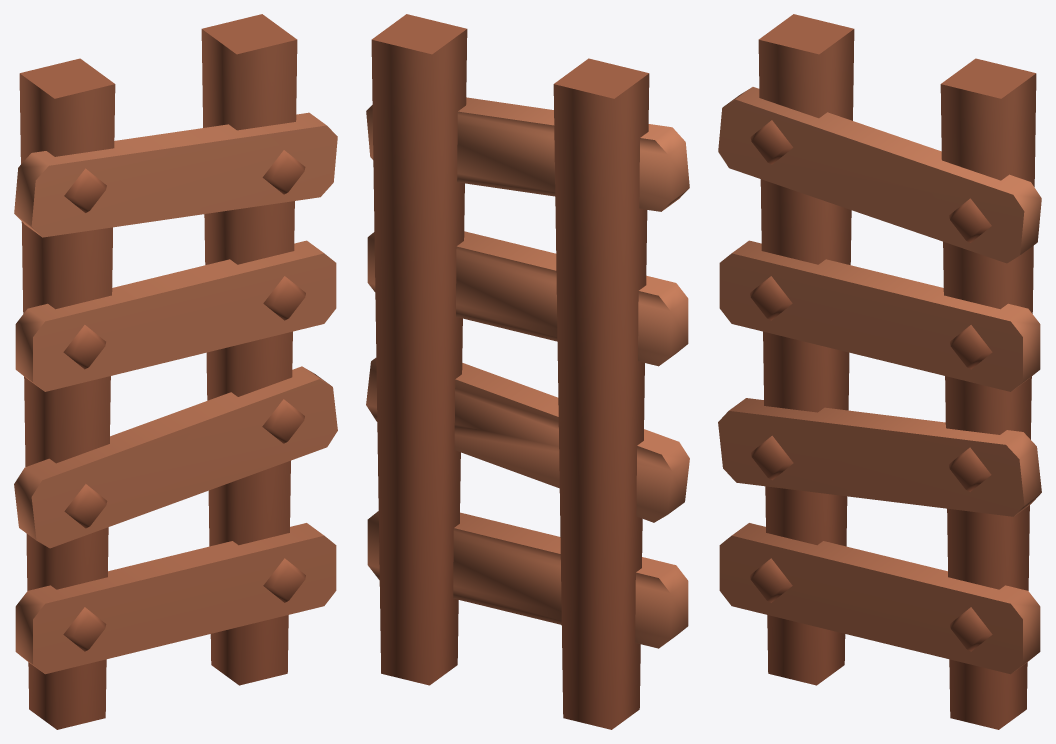
File: ladder.glb
The picture shows the model from 3 angles, left to right: view 1: azimuth 30°, elevation 25°; view 2: azimuth 150°, elevation 25°; view 3: azimuth 330°, elevation 25°; orthographic projection.
Parts seen in each view (by area): view 1: ladder; view 2: ladder; view 3: ladder.
Part boxes in pixels (x1,y1,x2,y2): ladder: [14, 14, 337, 729]; ladder: [366, 14, 689, 729]; ladder: [718, 14, 1041, 729].
Size of the model in its own units: 0.5049 by 1 by 0.1375.
